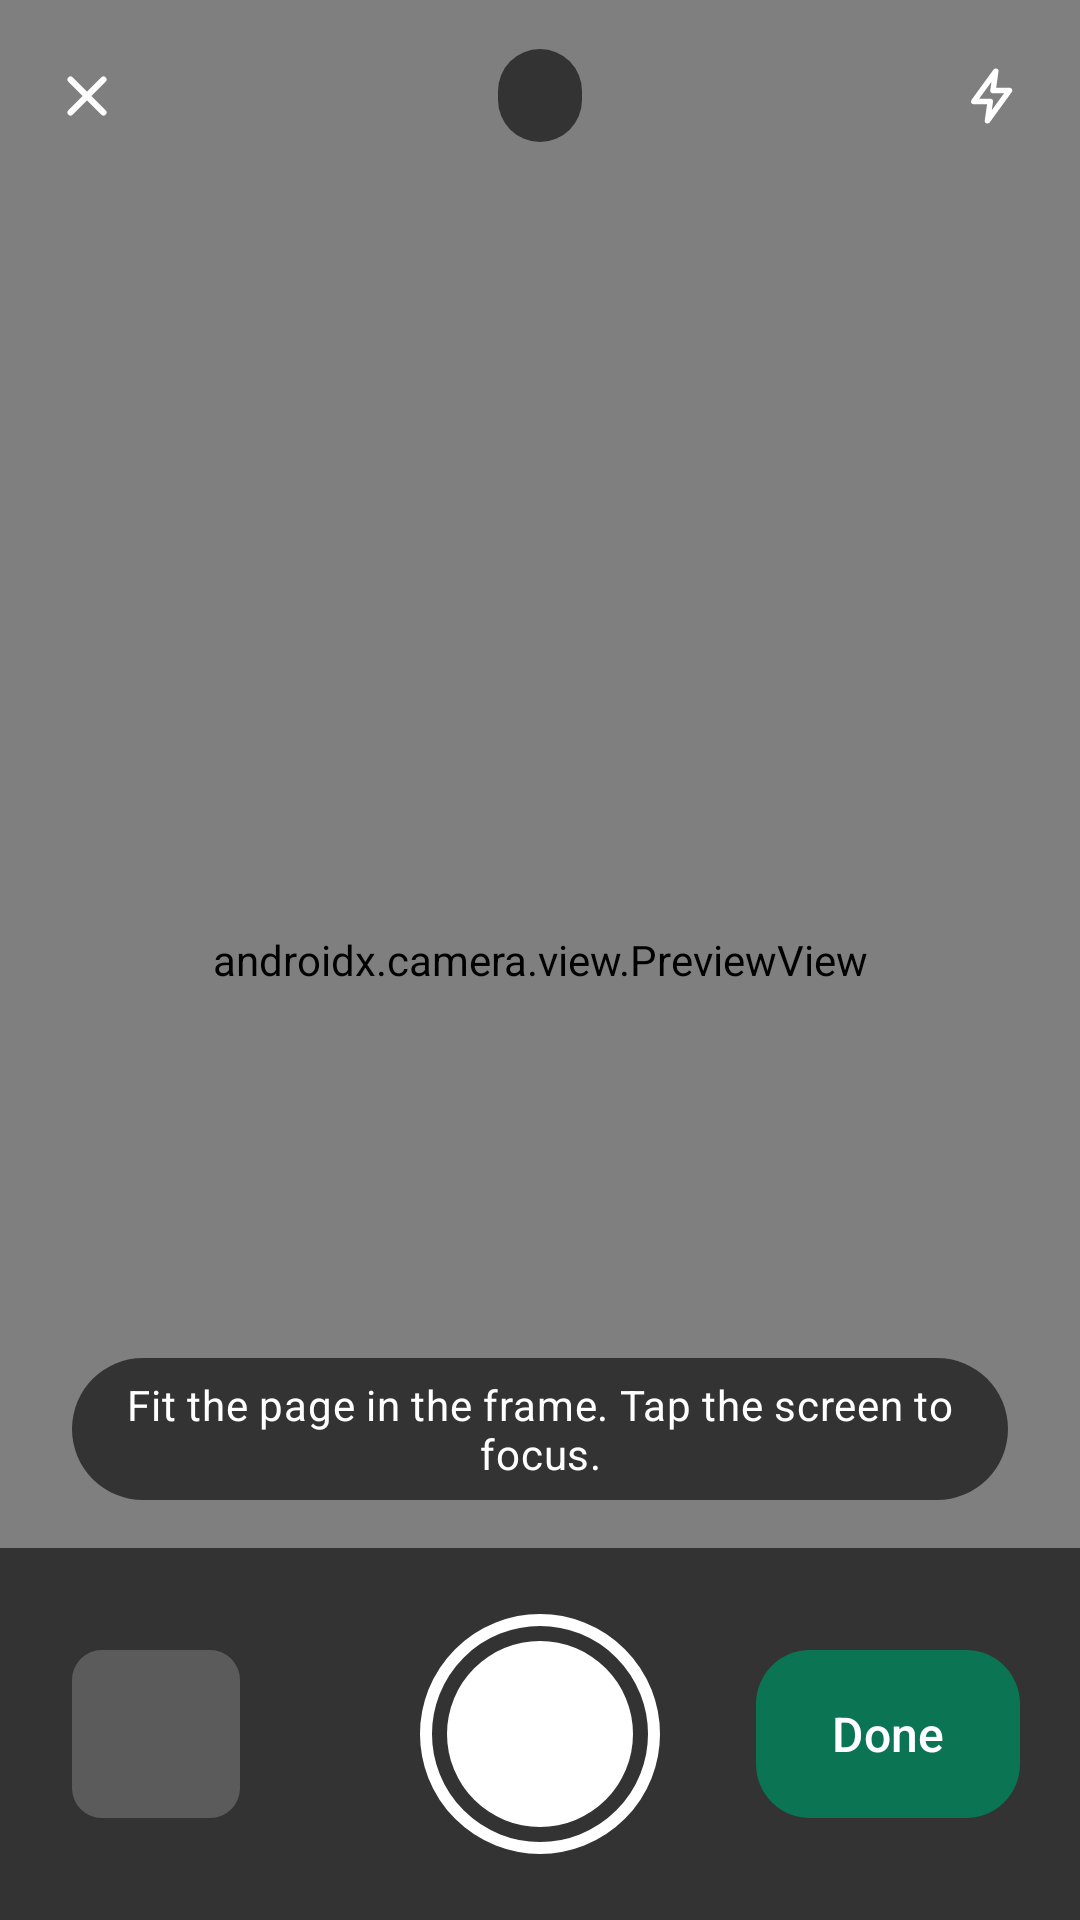

Where to tap for icons on this 1080px×1920px app screen, as point (x, y):
Close camera: point (87, 96)
Take photo: point (540, 1734)
Turn light on: point (992, 96)
